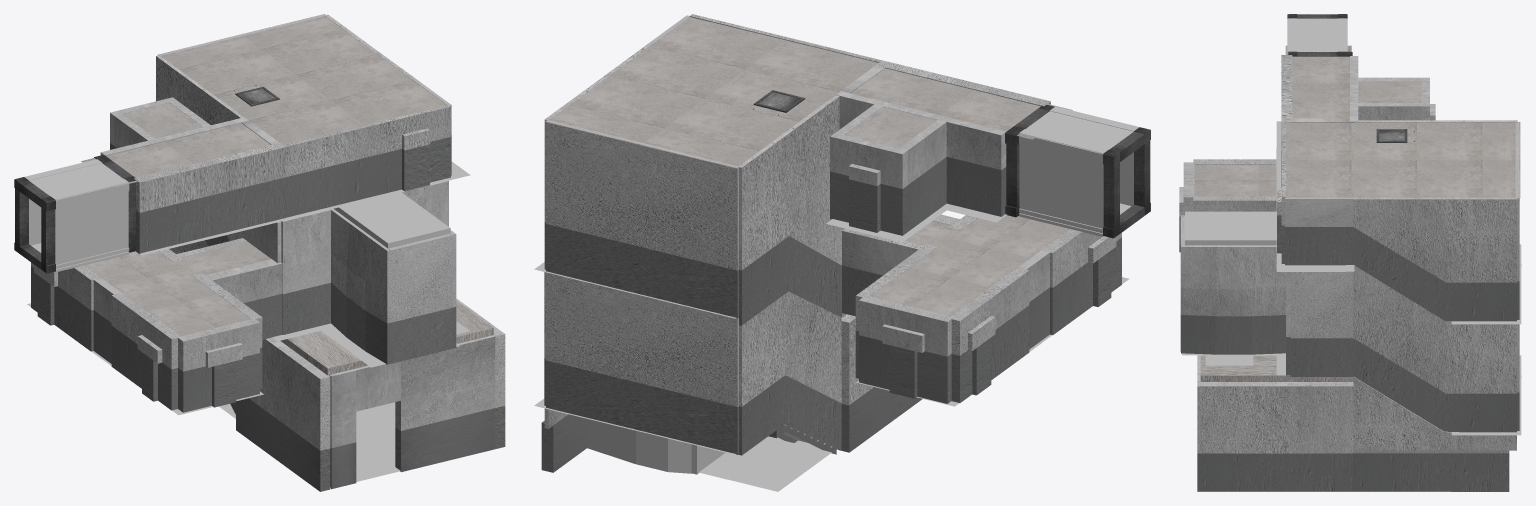
File: TheStairWay.fbx
3 views of the same model, side by side, from view 1: azimuth 30°, elevation 25°; view 2: azimuth 150°, elevation 25°; view 3: azimuth 270°, elevation 25° (orthographic). The views are drawn at different scales.
Visible parts, largest first — view 1: Cube.096, Cube.085, Cube.001, Cube.088, Cube.094, Cube.087, Cube.049, Cube.038, Cube.036, Cube.092, Cube.083, Cube.105 (+53 smaller); view 2: Cube.189, Cube.029, Cube.191, Cube.010, Cube.020, Cube.032, Cube.048, Cube.190, Cube.031, Cube.073, Cube.074, Plane.018 (+50 smaller); view 3: Cube.202, Cube.019, Cube.097, Cube.034, Cube.100, Cube.201, Cube.003, Cube.093, Cube.079, Cube.187, Cube.033, Cube.105 (+32 smaller).
Boxes of the visible parts, bbox=[...] form: Cube.096: bbox=[395, 335, 495, 430]; Cube.085: bbox=[285, 137, 450, 217]; Cube.001: bbox=[136, 177, 285, 253]; Cube.088: bbox=[281, 105, 450, 176]; Cube.094: bbox=[249, 337, 330, 450]; Cube.087: bbox=[134, 143, 285, 212]; Cube.049: bbox=[51, 178, 128, 268]; Cube.038: bbox=[389, 233, 452, 322]; Cube.036: bbox=[331, 209, 390, 323]; Cube.092: bbox=[395, 408, 495, 472]; Cube.083: bbox=[236, 398, 330, 491]; Cube.105: bbox=[334, 192, 450, 248]; Cube.189: bbox=[546, 120, 738, 270]; Cube.029: bbox=[546, 271, 738, 406]; Cube.191: bbox=[738, 95, 842, 270]; Cube.010: bbox=[546, 224, 738, 318]; Cube.020: bbox=[546, 360, 738, 454]; Cube.032: bbox=[739, 291, 841, 406]; Cube.048: bbox=[1019, 129, 1108, 233]; Cube.190: bbox=[739, 236, 841, 325]; Cube.031: bbox=[738, 375, 841, 455]; Cube.073: bbox=[859, 335, 951, 403]; Cube.074: bbox=[859, 296, 951, 356]; Plane.018: bbox=[699, 436, 831, 491]; Cube.202: bbox=[1353, 265, 1516, 393]; Cube.019: bbox=[1353, 197, 1516, 282]; Cube.097: bbox=[1197, 381, 1353, 453]; Cube.034: bbox=[1181, 245, 1285, 316]; Cube.100: bbox=[1352, 450, 1509, 491]; Cube.201: bbox=[1353, 338, 1516, 432]; Cube.003: bbox=[1353, 227, 1516, 321]; Cube.093: bbox=[1197, 453, 1353, 491]; Cube.079: bbox=[1353, 377, 1516, 450]; Cube.187: bbox=[1290, 271, 1353, 338]; Cube.033: bbox=[1181, 315, 1285, 354]; Cube.105: bbox=[1185, 211, 1276, 245].
Size of the model in its own units: 3511 by 2513 by 2649.
